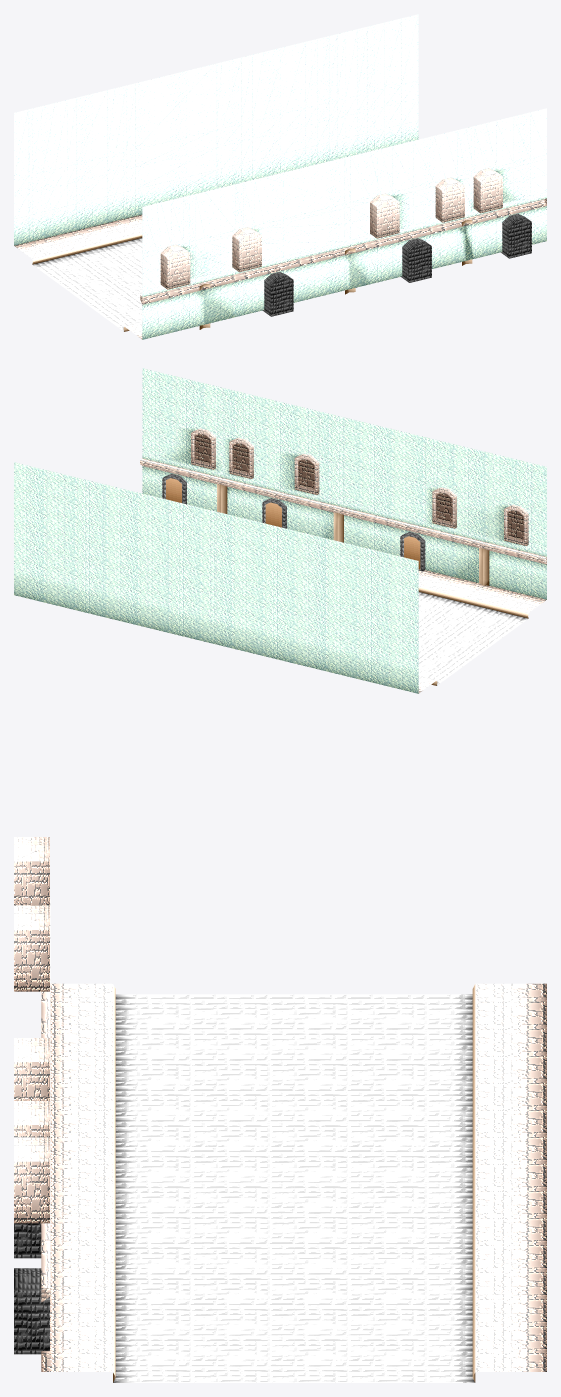
Rendered from city.glb.
3 renders of one model, top to bottom at view 1: azimuth 30°, elevation 25°; view 2: azimuth 150°, elevation 25°; view 3: azimuth 270°, elevation 25°, orthographic. The views are drawn at different scales.
Visible parts, largest first — view 1: Plane, Cube.001, Cube.007, Cube.003, Cube.004, Cube.005, Cube, Cube.006, Cube.002; view 2: Plane, Cube.002, Cube, Cube.004, Cube.001, Cube.003, Cube.006, Cube.005, Cube.007, Plane.003; view 3: Plane, Cube, Cube.004, Cube.007, Cube.001, Cube.002, Cube.003, Cube.005.
Boxes of the visible parts, left/top/right/bottom form: Plane: left=14, top=14, right=546, bottom=339; Cube.001: left=160, top=245, right=190, bottom=289; Cube.007: left=501, top=213, right=531, bottom=258; Cube.003: left=435, top=177, right=464, bottom=222; Cube.004: left=473, top=168, right=502, bottom=213; Cube.005: left=401, top=238, right=431, bottom=282; Cube: left=232, top=227, right=261, bottom=272; Cube.006: left=263, top=272, right=293, bottom=316; Cube.002: left=370, top=193, right=399, bottom=238; Plane: left=14, top=368, right=546, bottom=693; Cube.002: left=294, top=453, right=319, bottom=494; Cube: left=432, top=487, right=456, bottom=528; Cube.004: left=191, top=428, right=215, bottom=469; Cube.001: left=504, top=504, right=528, bottom=545; Cube.003: left=229, top=437, right=253, bottom=478; Cube.006: left=400, top=532, right=425, bottom=571; Cube.005: left=262, top=498, right=286, bottom=528; Cube.007: left=162, top=473, right=186, bottom=504; Plane.003: left=479, top=548, right=489, bottom=585; Plane: left=41, top=899, right=546, bottom=1382; Cube: left=14, top=905, right=49, bottom=991; Cube.004: left=14, top=1137, right=49, bottom=1223; Cube.007: left=14, top=1268, right=49, bottom=1354; Cube.001: left=14, top=837, right=49, bottom=905; Cube.002: left=14, top=1038, right=49, bottom=1100; Cube.003: left=14, top=1101, right=49, bottom=1137; Cube.005: left=14, top=1223, right=41, bottom=1258.
Size of the model in its own units: 15.59 by 5.1 by 9.04.
